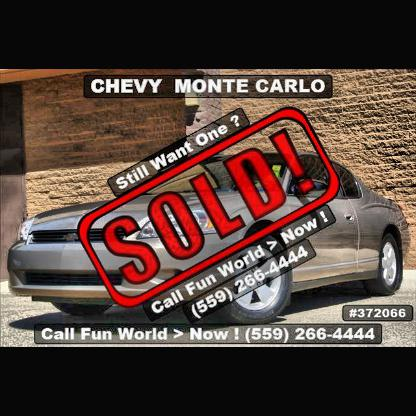Chevrolet Monte Carlo Coupe 2007: (6, 149, 415, 327)
